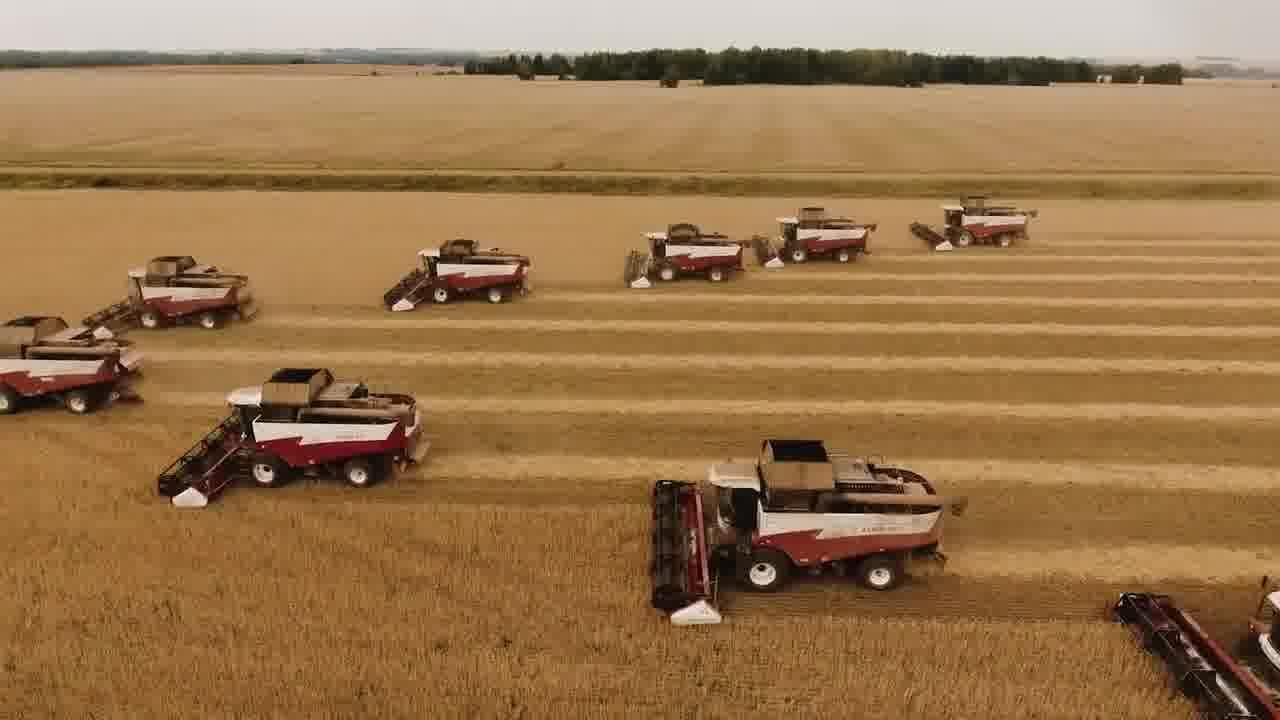combine harvester: (642, 432, 969, 637), (155, 362, 433, 516), (1099, 562, 1280, 720), (0, 311, 150, 419), (78, 256, 268, 332), (382, 235, 534, 319), (619, 217, 752, 292), (906, 188, 1039, 257), (753, 205, 879, 270)
